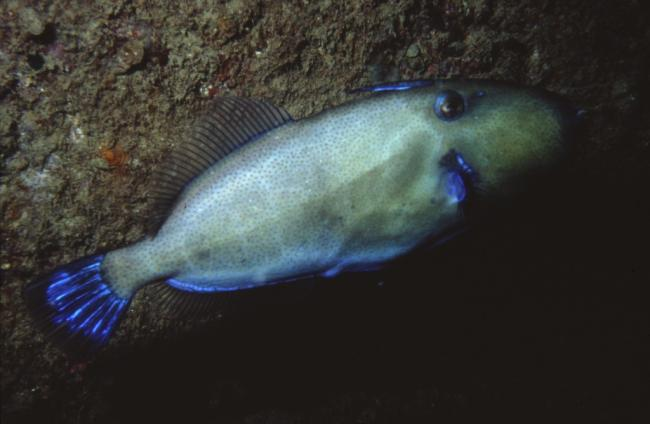fish: (45, 77, 581, 344)
